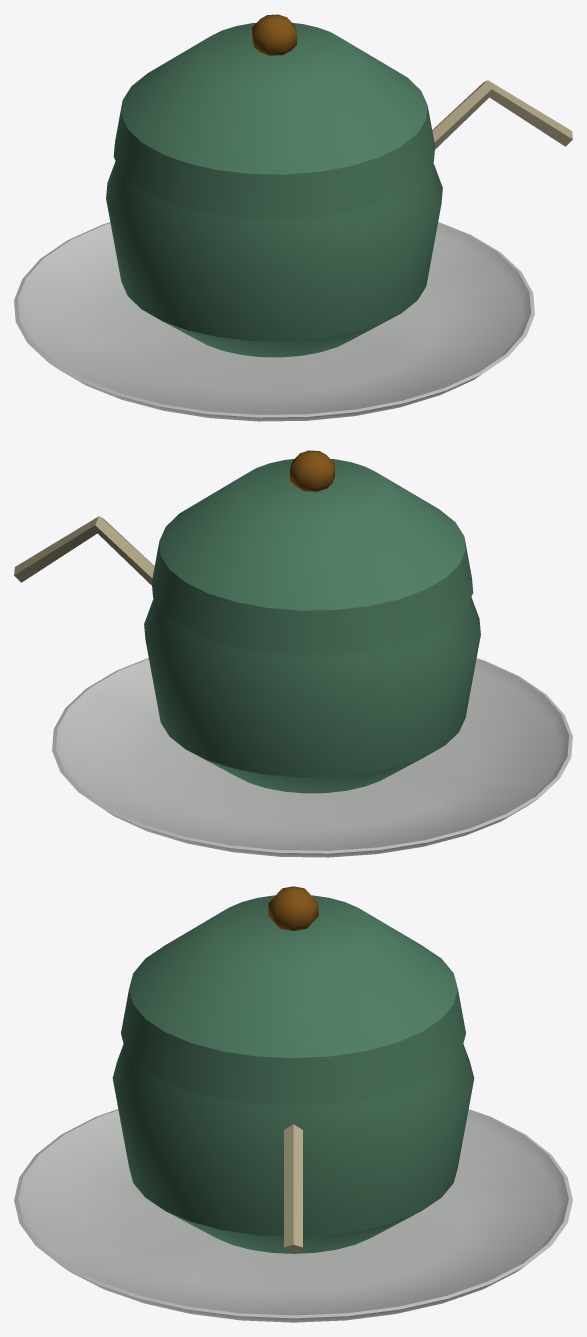
File: fs-dish-soup-tureen.glb
3 renders of one model, top to bottom at view 1: azimuth 30°, elevation 25°; view 2: azimuth 150°, elevation 25°; view 3: azimuth 270°, elevation 25°, orthographic. The views are drawn at different scales.
Visible parts, largest first — view 1: plate__ceramic, lid__ceramic, tureen__ceramic, food__food; view 2: plate__ceramic, lid__ceramic, tureen__ceramic, food__food; view 3: plate__ceramic, lid__ceramic, tureen__ceramic, food__food.
Part boxes in pixels (bbox=[...]): plate__ceramic: bbox=[14, 222, 534, 421]; lid__ceramic: bbox=[113, 14, 435, 219]; tureen__ceramic: bbox=[106, 161, 442, 357]; food__food: bbox=[432, 80, 572, 149]; plate__ceramic: bbox=[52, 658, 572, 857]; lid__ceramic: bbox=[151, 450, 473, 655]; tureen__ceramic: bbox=[144, 597, 480, 793]; food__food: bbox=[14, 516, 154, 585]; plate__ceramic: bbox=[14, 1109, 572, 1322]; lid__ceramic: bbox=[121, 886, 465, 1106]; tureen__ceramic: bbox=[112, 1044, 474, 1253]; food__food: bbox=[284, 1124, 302, 1252].
Bounding box in the file's own units: 0.3938 × 0.229 × 0.34.
